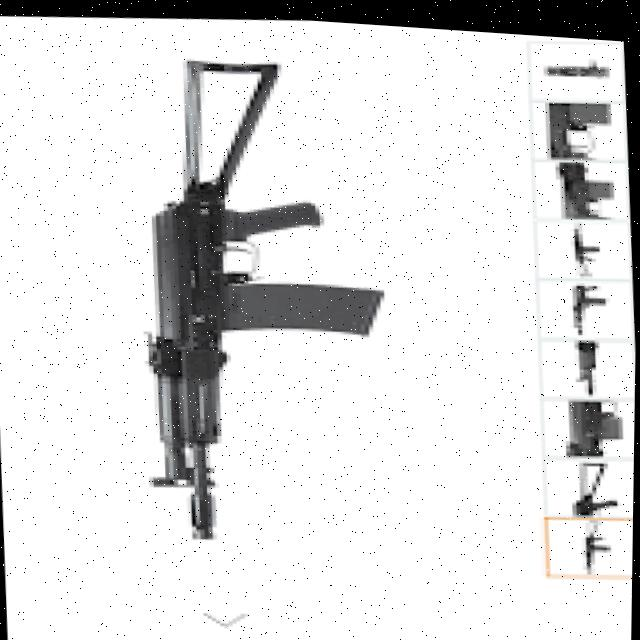firearm: (127, 48, 398, 550)
